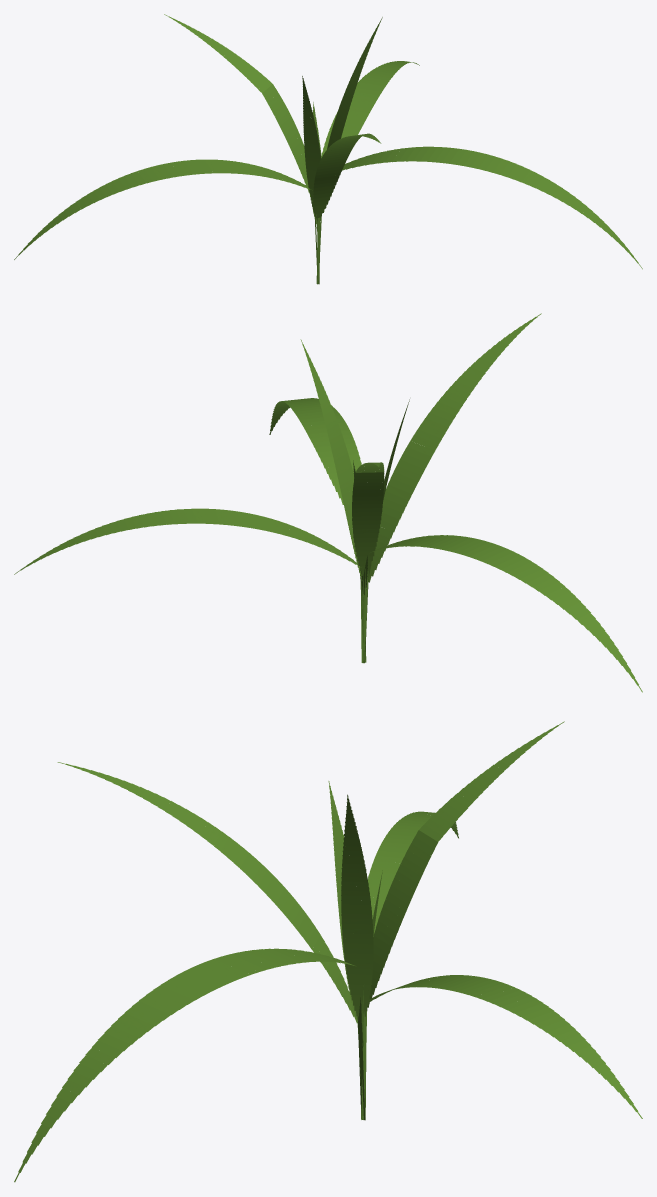
File: maize_001_day_065.dae
The picture shows the model from 3 angles, top to bottom: view 1: azimuth 30°, elevation 25°; view 2: azimuth 150°, elevation 25°; view 3: azimuth 270°, elevation 25°; orthographic projection. The views are drawn at different scales.
Visible parts, largest first — view 1: node; view 2: node; view 3: node.
Boxes of the visible parts, x1,y1,x2,y2 form: node: (14,14,642,284); node: (14,313,642,692); node: (14,721,642,1182).
Size of the model in its own units: 0.905 by 0.4692 by 0.7304.
Materials: 1 (1 with a texture image).
